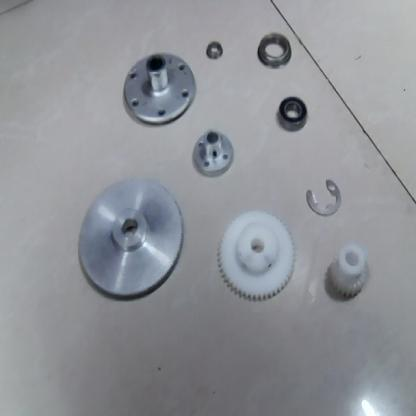FOD: (74, 175, 184, 306), (214, 213, 296, 304), (122, 54, 202, 128), (188, 126, 237, 180), (323, 243, 369, 299), (252, 33, 297, 71), (303, 178, 342, 220), (272, 94, 311, 134), (206, 39, 225, 63)
